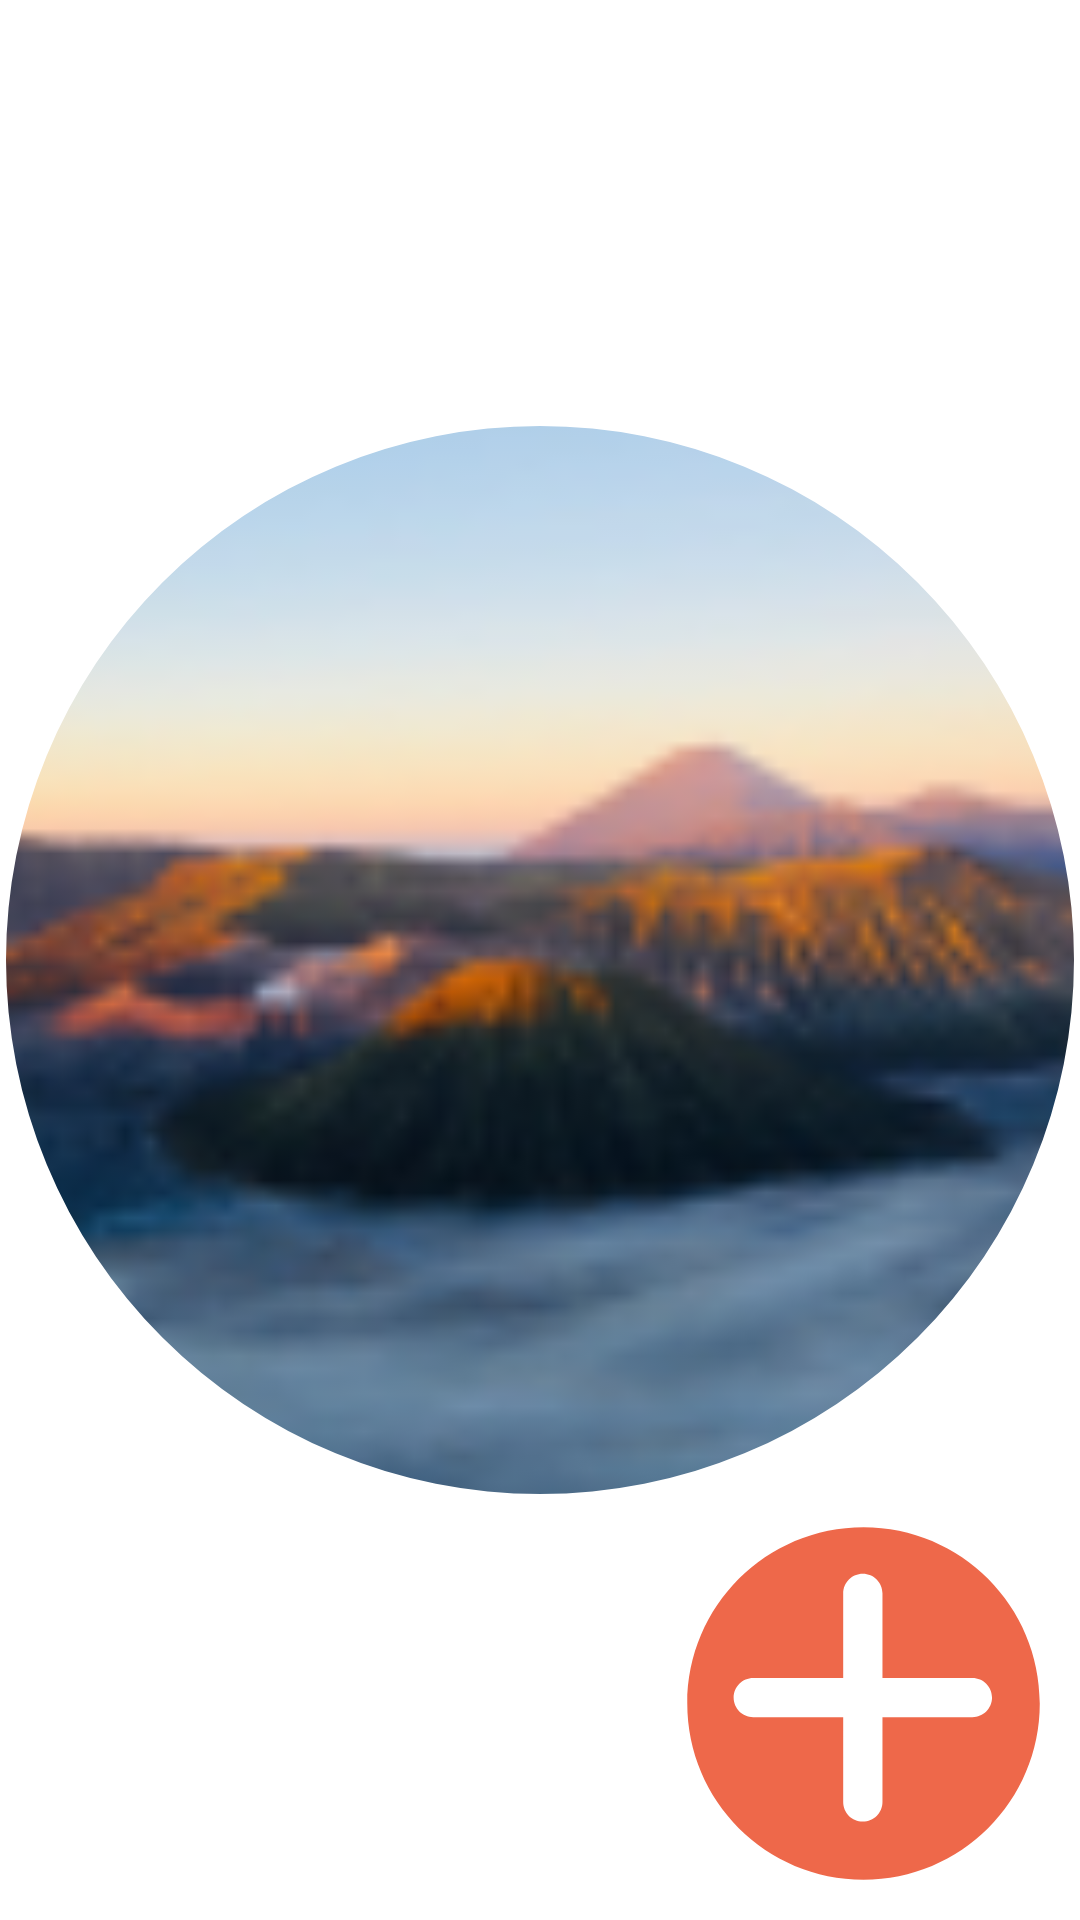

Screen size 1080w x 1920h. Icon name, then its center in pixels as point (x, y):
Follow: point (863, 1703)
